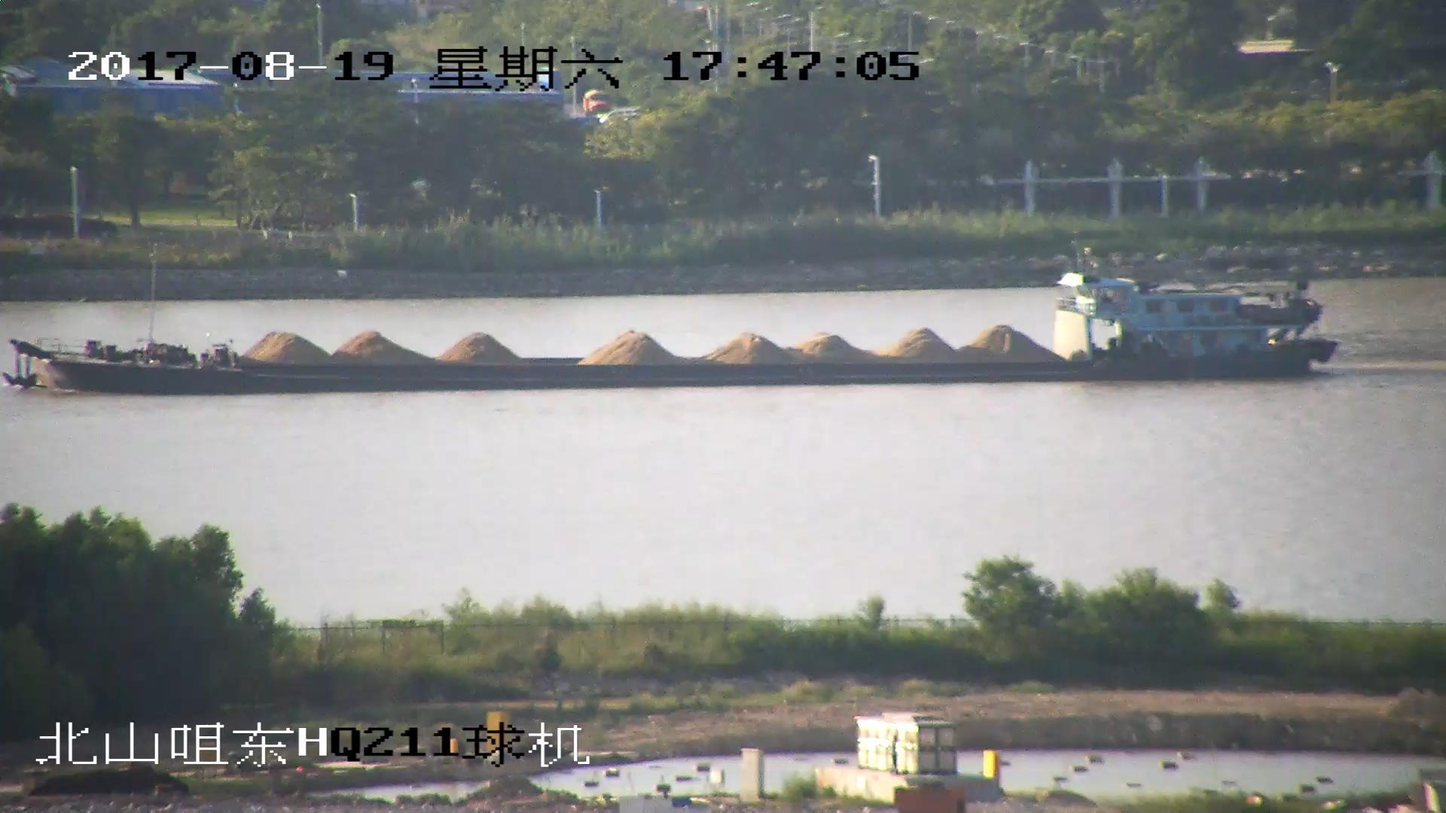ore carrier: (2, 252, 1337, 397)
